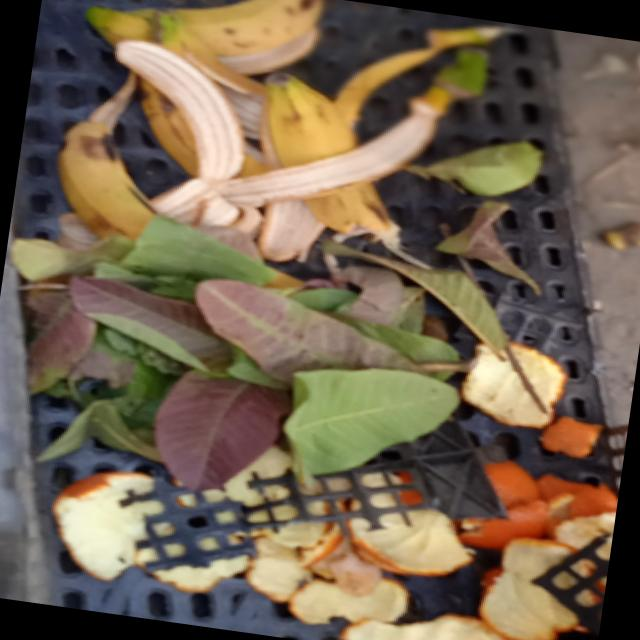paper: (89, 29, 441, 260), (264, 346, 469, 492), (44, 245, 256, 381), (444, 312, 610, 448), (56, 462, 194, 588), (348, 498, 482, 584), (319, 592, 551, 640), (459, 120, 577, 210)
